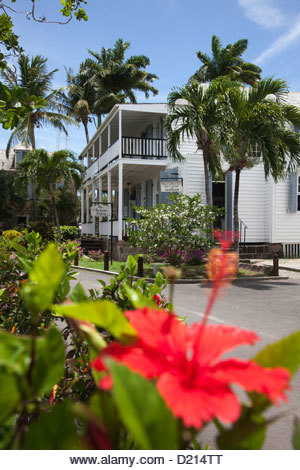Hibiscus: (95, 224, 289, 428)
